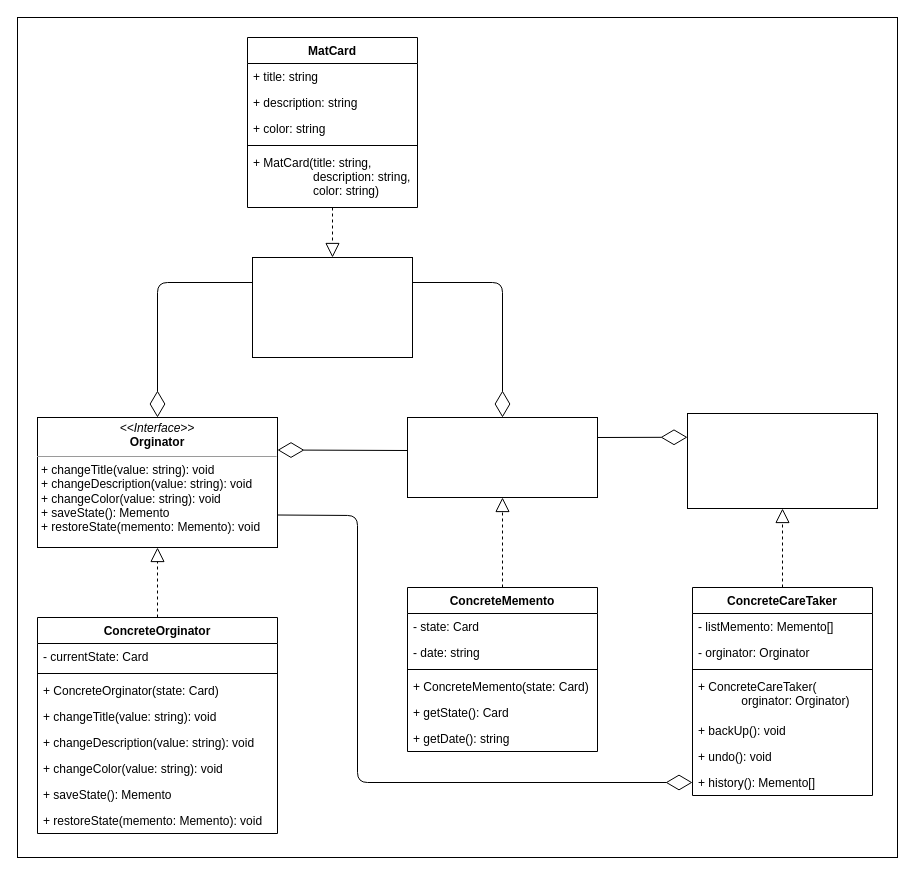
Image size: 915x875. Some labels were removed from this diagram. Here are the shapes that lost their labels. From the top down, the centre of each, then its label:
the point at 332,307: <<Interface>> Card + title: string + description: string + color: string
the point at 502,457: <<Interface>> Memento + getState(): Card + getDate(): string
the point at 782,460: <<Interface>> CareTaker + backUp(): void + undo(): void + history(): Memento[]
